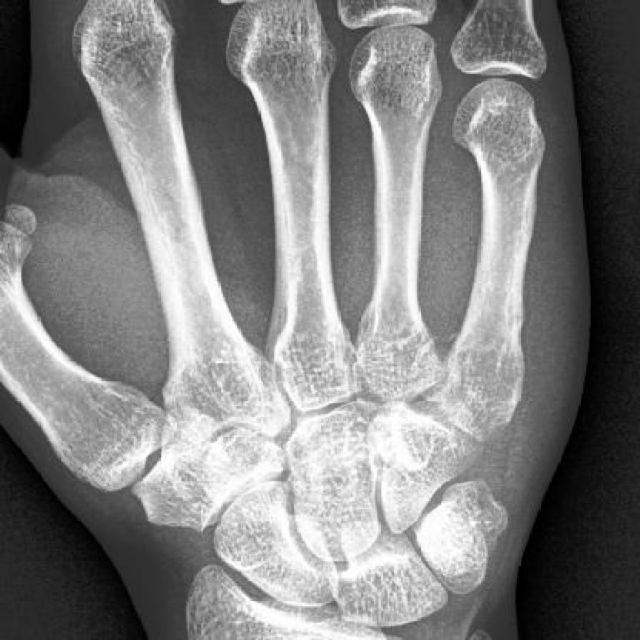Fracture: (417, 328, 482, 413)
